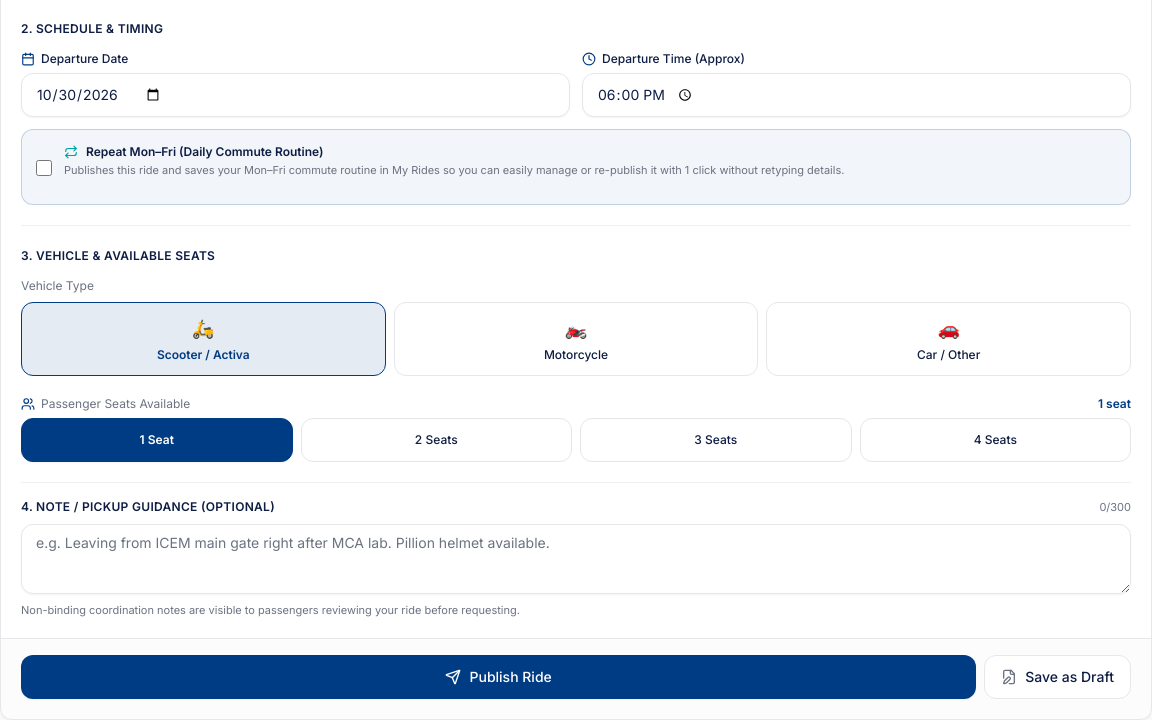
it: OfferRideForm Component (Phase 3) › submits a valid ride and displays the success screen
(page scrolled)
# Enter note
Replace the text in the text box with placeholder "Leaving from ICEM main gate" with "Leaving at 5:30 PM sharp." at (576, 558), box [21,524,1131,594]
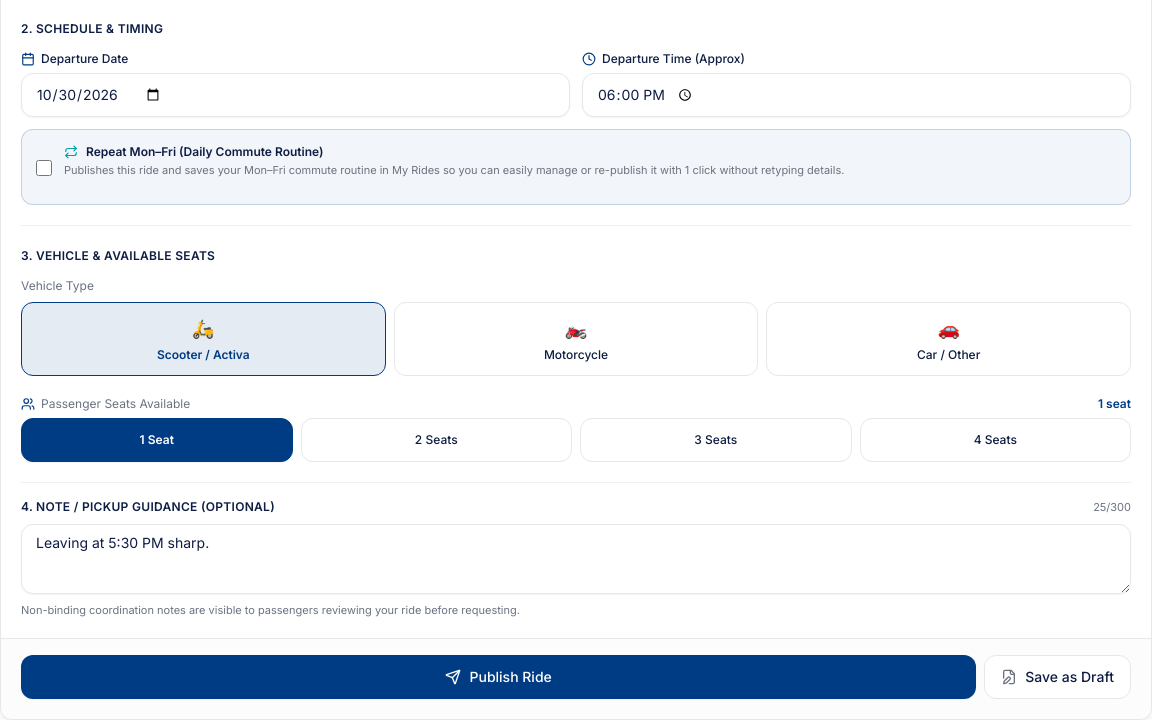
# Click Publish Ride
Click the button "Publish Ride" at (499, 677), box [21,655,976,699]
(page scrolled)
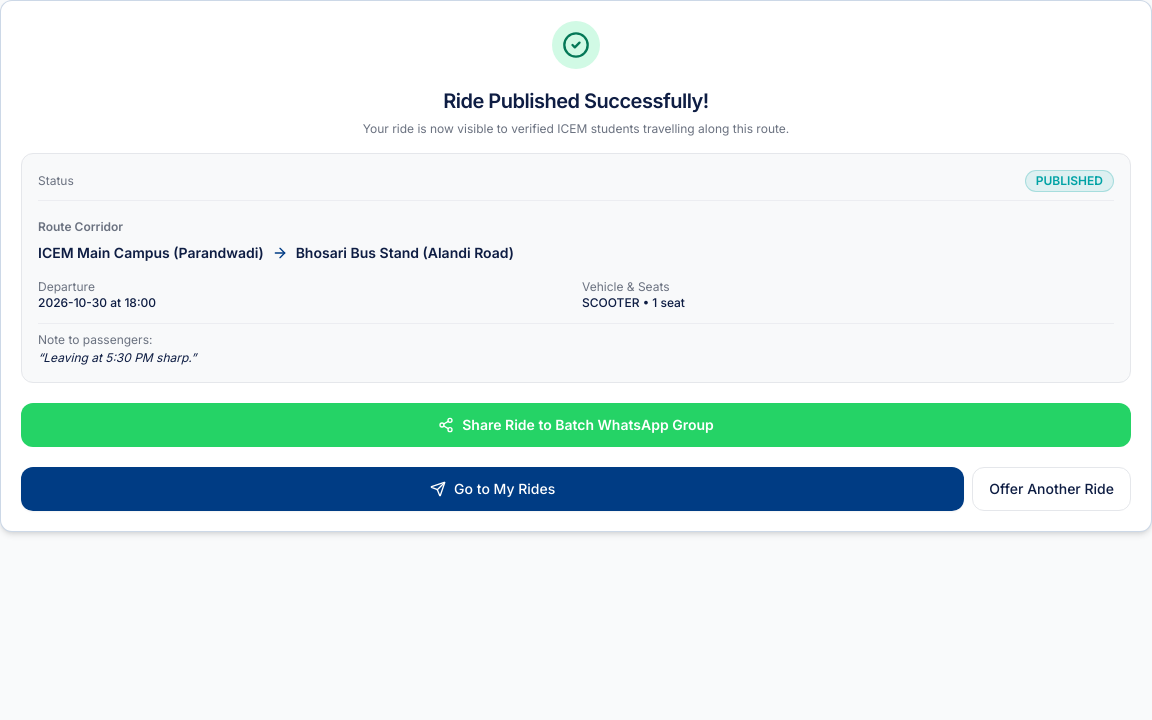
Check: the heading "Ride Published Successfully!" is shown, box [443,89,709,113]
Check: the button "Share Ride to Batch WhatsApp Group" is shown, box [21,403,1131,447]
